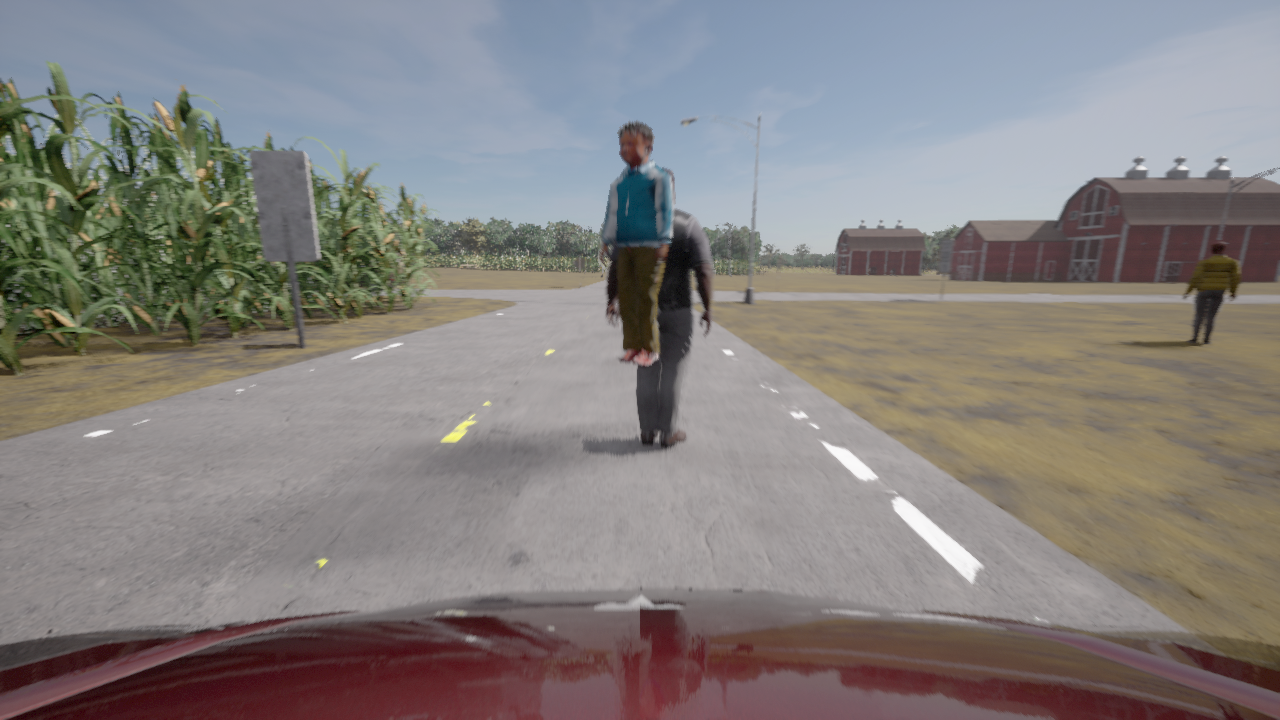cyclist: (0, 588, 1279, 719), (327, 272, 396, 286)
pedestrian: (605, 168, 713, 447), (600, 121, 673, 365), (1183, 241, 1240, 344)
